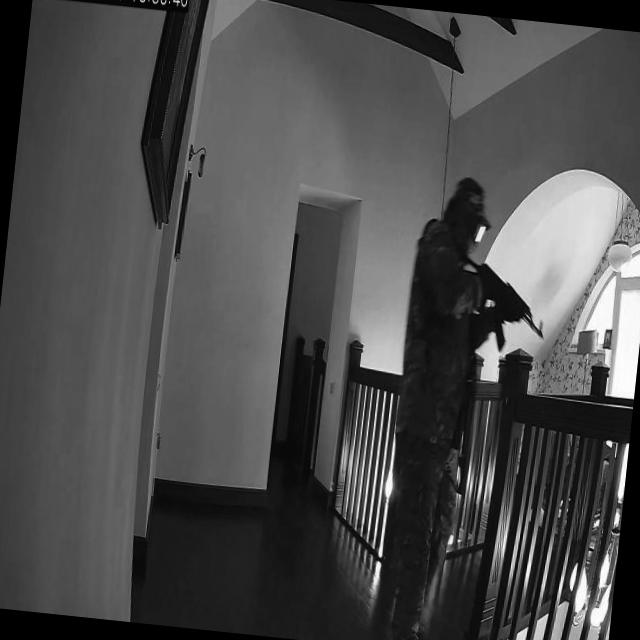gun: (448, 248, 554, 340)
person with a gun: (369, 165, 562, 640)
